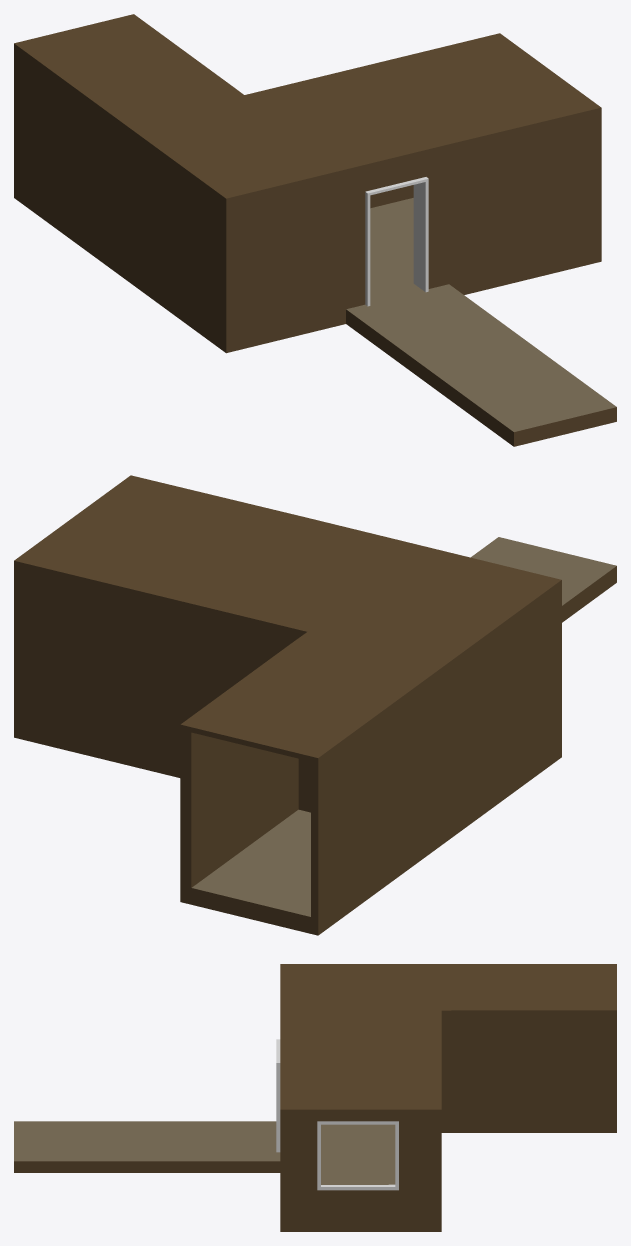
File: myNewRoomLatest.fbx
The picture shows the model from 3 angles, top to bottom: view 1: azimuth 30°, elevation 25°; view 2: azimuth 150°, elevation 25°; view 3: azimuth 270°, elevation 25°; orthographic projection. The views are drawn at different scales.
Parts seen in each view (by area): view 1: Cube; view 2: Cube; view 3: Cube.
Boxes of the visible parts, box(x1,y1,x2,y2) form: Cube: box(14, 14, 616, 446); Cube: box(14, 475, 616, 935); Cube: box(14, 964, 616, 1231).
Size of the model in its own units: 751 by 295 by 1316.
